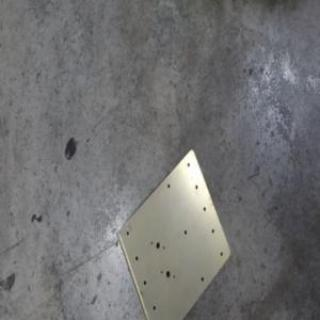MetalSheettrack_idkeyframe: (114, 146, 230, 319)
